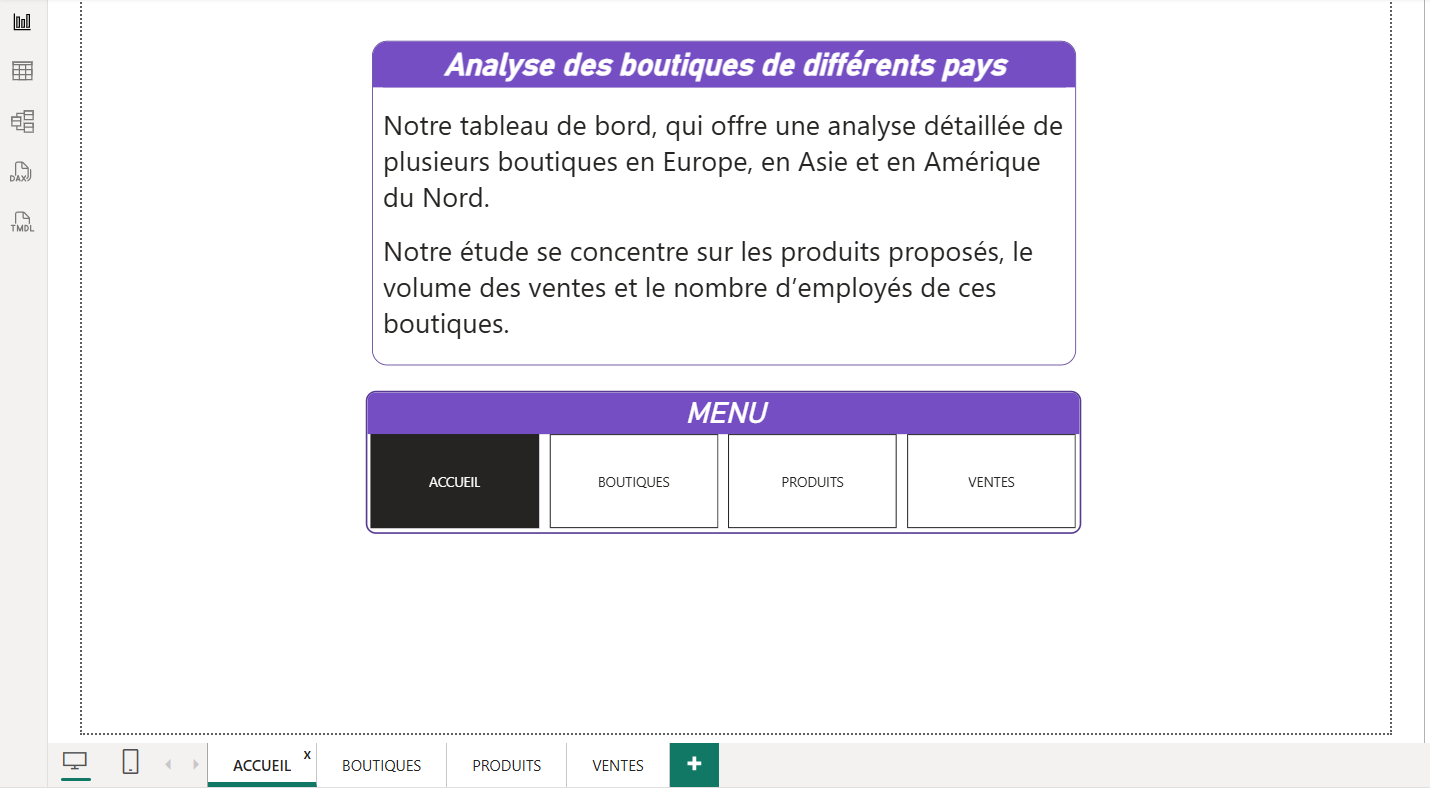

What the dashboard file says about the page in this screenshot:
{"tool":"powerbi","page":{"name":"ACCUEIL","canvas":[1280,720],"ordinal":0},"visuals":[{"type":"pageNavigator","title":"MENU","box":[277.8,385.6,700,140],"z":0},{"type":"textbox","title":"Analyse des boutiques de différents pays","box":[283.3,42.2,688.9,317.8],"z":1000}]}

Visuals, with their boxes on the page's 1280x720 design canvas (x1, y1, x2, y2). These are canvas units, not pixel positions in the 1430x788 screenshot, which may show the page scaled, cropped or inside an application window:
"MENU" pageNavigator: <box>278,386,978,526</box>
"Analyse des boutiques de différents pays" textbox: <box>283,42,972,360</box>
